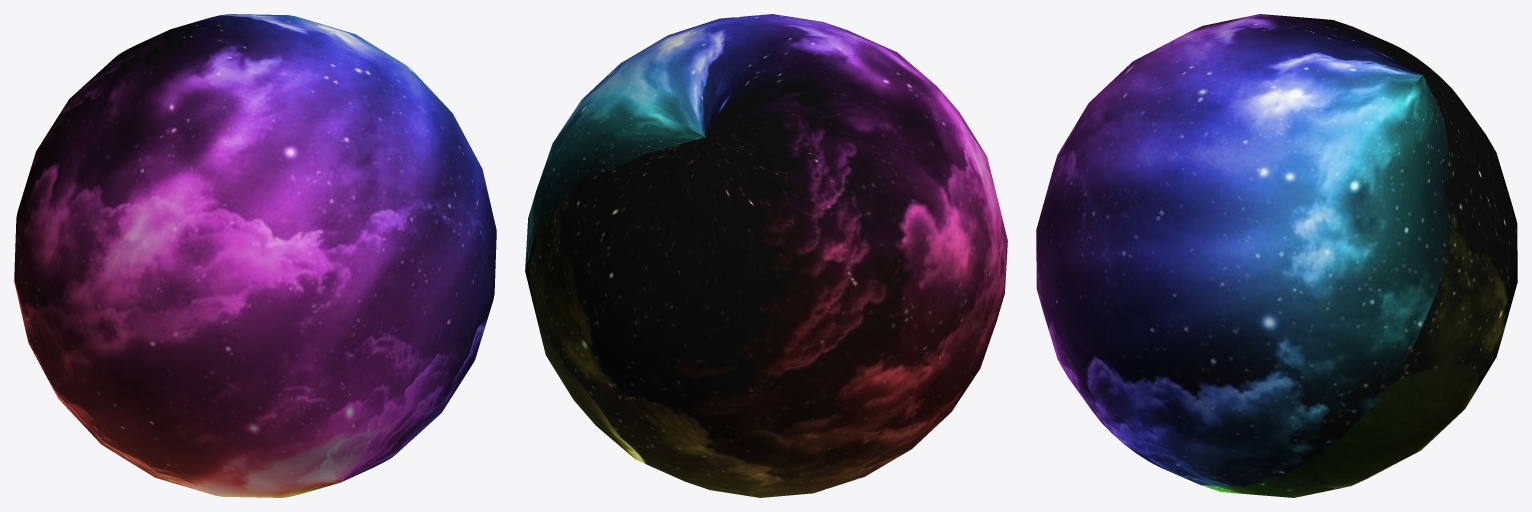
3 renders of one model, left to right at view 1: azimuth 30°, elevation 25°; view 2: azimuth 150°, elevation 25°; view 3: azimuth 270°, elevation 25°, orthographic.
Parts seen in each view (by area): view 1: Sphere; view 2: Sphere; view 3: Sphere.
Part boxes in pixels (x1,y1,x2,y2): Sphere: (14,14,496,497); Sphere: (525,14,1007,497); Sphere: (1036,14,1517,497).
Size of the model in its own units: 200 by 198 by 198.
Materials: 1 (1 with a texture image).
